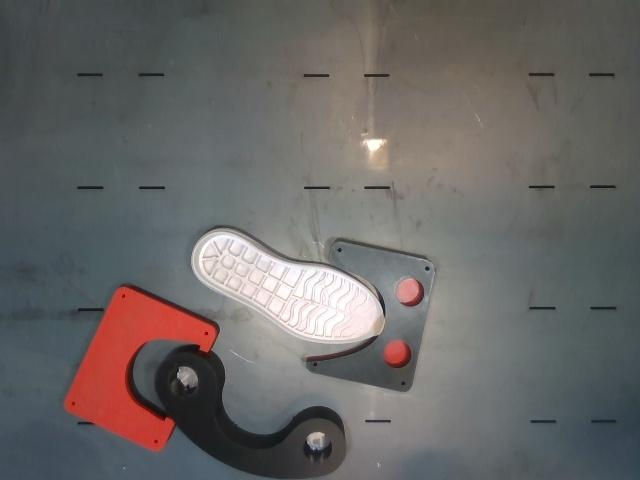shoes: (194, 233, 384, 342)
